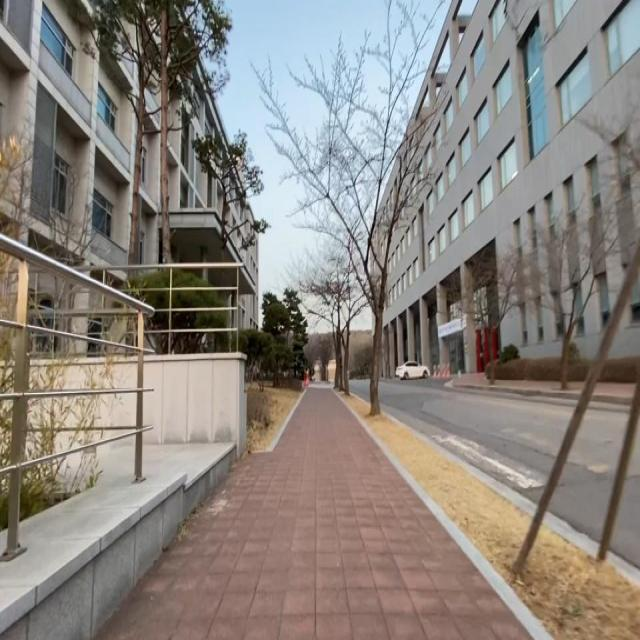sidewalk: (93, 389, 534, 640), (494, 380, 561, 390), (594, 383, 636, 397), (453, 373, 490, 386), (567, 382, 584, 390)
